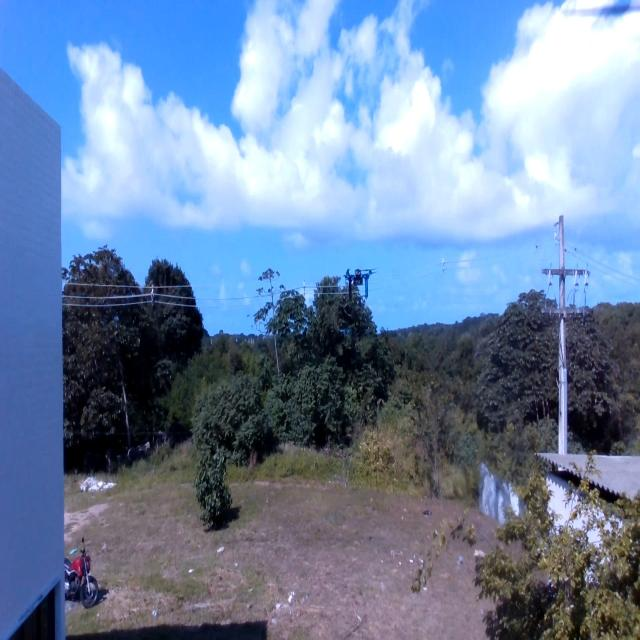-uav-: (335, 250, 383, 314)
